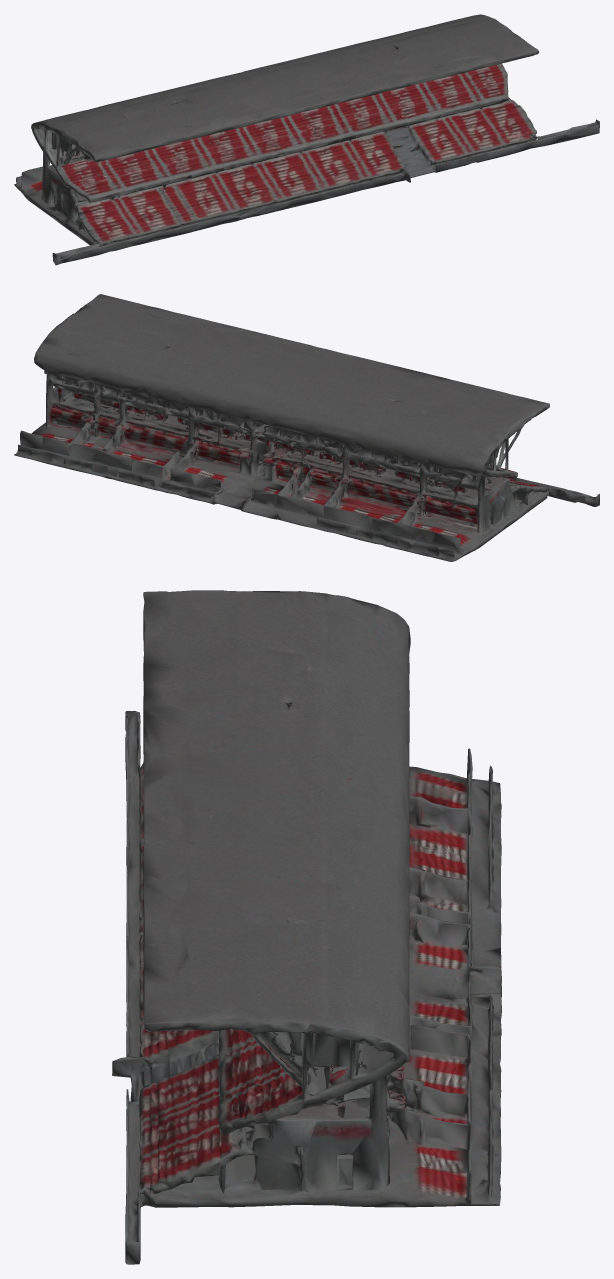
Rendered from grandstand.glb.
3 renders of one model, top to bottom at view 1: azimuth 30°, elevation 25°; view 2: azimuth 150°, elevation 25°; view 3: azimuth 270°, elevation 25°, orthographic. The views are drawn at different scales.
Visible parts, largest first — view 1: Mesh_0; view 2: Mesh_0; view 3: Mesh_0.
Boxes of the visible parts, <box> form: Mesh_0: <box>14,14,599,265</box>; Mesh_0: <box>14,294,599,561</box>; Mesh_0: <box>112,590,501,1264</box>.
Bounding box in the file's own units: 65.69 × 10.99 × 20.36.
Materials: 1 (1 with a texture image).
